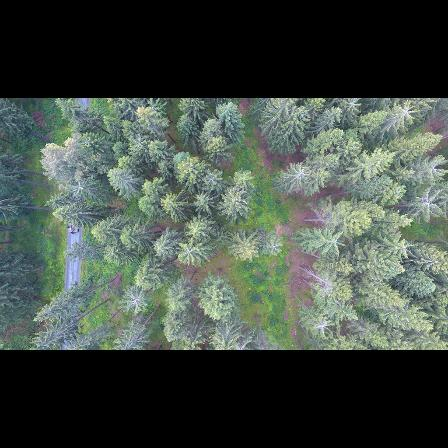Sick: (408, 186, 448, 223), (287, 159, 318, 190), (310, 314, 338, 342), (123, 288, 150, 315), (393, 101, 420, 126), (68, 177, 93, 198), (264, 237, 285, 258)
